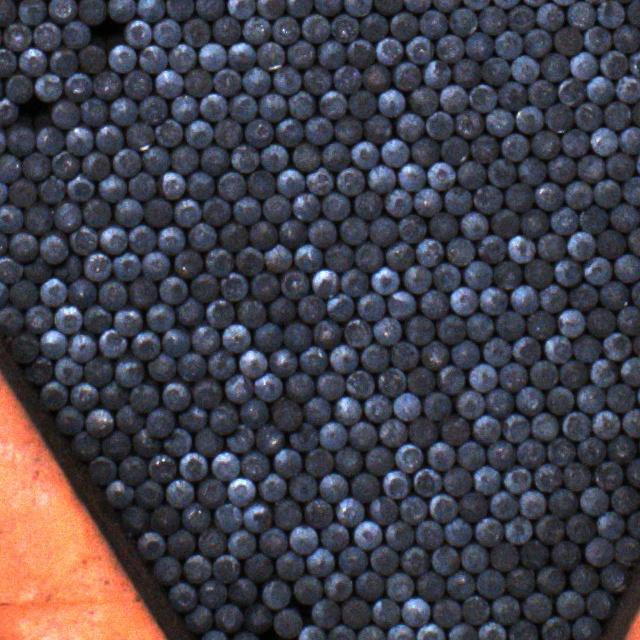tool: (100, 429, 130, 460), (70, 431, 100, 461), (584, 536, 614, 566), (300, 12, 330, 42), (598, 49, 628, 79), (197, 527, 226, 558), (458, 491, 487, 522), (209, 402, 237, 434), (523, 592, 552, 622), (310, 598, 340, 627), (459, 542, 488, 572), (486, 440, 515, 470), (350, 472, 379, 502), (288, 524, 317, 554), (63, 72, 92, 102), (404, 35, 434, 64), (453, 58, 482, 88), (430, 544, 458, 575), (551, 540, 579, 571), (149, 506, 180, 534), (562, 411, 590, 442), (401, 597, 430, 626), (352, 520, 381, 549), (35, 125, 64, 154), (107, 43, 136, 72), (109, 96, 138, 125), (125, 122, 154, 151), (226, 41, 255, 70), (285, 40, 314, 69), (493, 30, 522, 59), (539, 52, 568, 81), (9, 332, 37, 362), (491, 594, 519, 624), (371, 598, 399, 628), (273, 608, 301, 638), (214, 604, 242, 634), (445, 570, 475, 598), (506, 567, 534, 597), (275, 550, 303, 580), (336, 546, 366, 574), (119, 455, 147, 485), (210, 450, 238, 480), (562, 461, 590, 491), (20, 152, 50, 180), (94, 124, 122, 154), (375, 36, 403, 66), (507, 4, 535, 34), (464, 31, 492, 61), (553, 26, 583, 54), (24, 204, 52, 234), (524, 258, 552, 288), (510, 284, 538, 314), (244, 602, 271, 633), (54, 405, 82, 434), (168, 582, 196, 611), (586, 589, 614, 618), (556, 590, 584, 619), (432, 598, 460, 627), (355, 571, 384, 599), (536, 566, 565, 594), (570, 564, 598, 593), (244, 553, 272, 582), (306, 547, 334, 576), (369, 545, 397, 574), (489, 542, 517, 571), (178, 451, 206, 480), (240, 451, 268, 480), (366, 446, 394, 475), (456, 440, 484, 469), (534, 462, 562, 491), (369, 495, 397, 524), (385, 521, 414, 549), (566, 513, 594, 542), (591, 410, 620, 438), (2, 22, 30, 51), (48, 48, 77, 76), (52, 150, 80, 179), (152, 18, 180, 47), (64, 125, 92, 154), (448, 6, 476, 35), (523, 28, 551, 57), (510, 53, 538, 82), (568, 50, 596, 79), (114, 357, 142, 386), (250, 272, 278, 301), (505, 183, 533, 212), (564, 180, 592, 209), (609, 204, 638, 232), (432, 262, 460, 291), (253, 322, 281, 351), (283, 323, 312, 351), (313, 320, 341, 349), (288, 422, 316, 451), (85, 408, 112, 438), (153, 555, 180, 585), (342, 598, 369, 628), (262, 579, 289, 609), (520, 539, 547, 569), (613, 536, 640, 566), (182, 502, 209, 532), (167, 529, 194, 559), (304, 498, 331, 528), (78, 44, 105, 74), (79, 96, 106, 126), (256, 40, 283, 70), (220, 271, 247, 301), (274, 400, 300, 431), (24, 356, 52, 384), (323, 572, 351, 600), (198, 580, 226, 608), (416, 572, 444, 600), (273, 448, 301, 476), (516, 438, 544, 466), (546, 437, 574, 465), (134, 480, 162, 508), (226, 478, 254, 506), (549, 488, 577, 516), (611, 486, 639, 514), (258, 527, 286, 555), (320, 522, 348, 550), (535, 515, 563, 543), (9, 280, 37, 308), (24, 304, 52, 332), (69, 381, 97, 409), (138, 44, 166, 72), (198, 42, 226, 70), (184, 68, 212, 96), (272, 66, 300, 94), (302, 66, 330, 94), (332, 65, 360, 93), (392, 62, 420, 90), (422, 60, 450, 88), (482, 56, 510, 84), (228, 93, 256, 121), (112, 148, 140, 176), (468, 83, 496, 111), (396, 112, 424, 140), (350, 140, 378, 168), (560, 128, 588, 156), (8, 178, 36, 206), (276, 168, 304, 196), (320, 192, 348, 220), (456, 160, 484, 188), (473, 185, 501, 213), (534, 182, 562, 210), (550, 206, 578, 234), (566, 231, 594, 259), (483, 336, 511, 364), (468, 362, 496, 390), (346, 369, 374, 397), (456, 390, 484, 418), (392, 392, 420, 420), (183, 554, 210, 583), (228, 578, 255, 607), (401, 546, 428, 575), (148, 453, 175, 482), (305, 447, 332, 476), (607, 434, 634, 463), (198, 479, 225, 508), (289, 472, 316, 501), (214, 502, 241, 531), (429, 493, 456, 522), (227, 528, 254, 557), (18, 47, 45, 76), (5, 74, 32, 103), (92, 70, 119, 99), (138, 94, 165, 123), (331, 13, 358, 42), (242, 66, 269, 95), (478, 5, 505, 34), (613, 23, 640, 52), (243, 119, 272, 146), (586, 75, 613, 104), (380, 138, 407, 167), (411, 137, 438, 166), (218, 171, 245, 200), (173, 198, 200, 227), (191, 325, 218, 354), (478, 234, 505, 263), (373, 316, 400, 345), (406, 316, 433, 345), (572, 335, 601, 362), (477, 568, 503, 598), (89, 456, 116, 484), (427, 441, 454, 469), (577, 437, 605, 464), (594, 461, 621, 489), (166, 479, 193, 507), (443, 467, 470, 495), (274, 500, 301, 528), (490, 490, 517, 518), (580, 486, 607, 514), (416, 520, 443, 548), (474, 517, 501, 545), (34, 73, 61, 101), (123, 70, 150, 98), (154, 70, 182, 97), (419, 10, 446, 38), (317, 41, 345, 68), (347, 38, 374, 66), (436, 34, 464, 61), (362, 64, 389, 92), (536, 2, 563, 30), (584, 25, 611, 53), (153, 119, 181, 146), (184, 120, 211, 148), (81, 153, 109, 180), (230, 144, 258, 171), (498, 81, 525, 109), (557, 78, 584, 106), (364, 114, 391, 142), (439, 136, 466, 164), (515, 105, 542, 133), (500, 133, 527, 161), (65, 173, 93, 200), (98, 174, 125, 202), (98, 280, 125, 308), (146, 302, 173, 330), (130, 384, 157, 412), (115, 405, 142, 433), (163, 428, 190, 456), (188, 222, 215, 250), (233, 196, 260, 224), (206, 299, 233, 327), (237, 299, 264, 327), (222, 324, 249, 352), (336, 166, 363, 194), (427, 162, 454, 190), (414, 188, 441, 216), (520, 209, 548, 236), (446, 237, 473, 265), (387, 243, 414, 271), (354, 242, 381, 270), (324, 243, 352, 270), (280, 270, 307, 298), (340, 268, 367, 296), (404, 265, 431, 293), (464, 260, 491, 288), (568, 283, 596, 310), (599, 281, 627, 308), (420, 290, 448, 317), (496, 311, 524, 338), (602, 332, 630, 359), (513, 336, 540, 364), (238, 350, 266, 377), (226, 424, 254, 451), (484, 389, 512, 416), (472, 415, 500, 442), (408, 418, 435, 446), (462, 595, 488, 624), (243, 502, 269, 531), (400, 495, 426, 524), (182, 17, 208, 46), (198, 94, 227, 120), (272, 15, 298, 44), (568, 1, 594, 30), (528, 79, 554, 108), (456, 109, 482, 138), (54, 202, 80, 231), (10, 233, 36, 262), (40, 235, 66, 264), (100, 379, 126, 408), (163, 382, 189, 411), (134, 427, 160, 456), (236, 246, 262, 275), (398, 214, 424, 243), (312, 269, 338, 298), (438, 315, 464, 344), (380, 418, 406, 447), (106, 479, 133, 506), (137, 531, 164, 558), (61, 21, 88, 48), (171, 96, 198, 123), (359, 13, 386, 40), (170, 146, 197, 173), (410, 87, 437, 114), (531, 131, 558, 158), (115, 198, 142, 225), (127, 225, 154, 252), (83, 305, 110, 332), (98, 329, 125, 356), (144, 200, 171, 227), (202, 197, 229, 224), (162, 328, 189, 355), (292, 193, 319, 220), (576, 155, 603, 182), (597, 230, 624, 257), (369, 218, 396, 245), (326, 293, 353, 320), (587, 309, 614, 336), (329, 344, 356, 371), (255, 374, 282, 401), (256, 425, 283, 452), (560, 361, 587, 388), (40, 381, 66, 409), (293, 576, 321, 602), (386, 572, 412, 600), (600, 563, 626, 591), (320, 473, 346, 501), (473, 465, 499, 493), (336, 497, 362, 525), (504, 516, 530, 544), (39, 330, 65, 358), (32, 21, 58, 49), (7, 126, 33, 154), (124, 20, 150, 48), (260, 93, 286, 121), (214, 120, 240, 148), (305, 116, 331, 144), (142, 146, 168, 174), (260, 144, 288, 170), (426, 110, 452, 138), (486, 108, 512, 136), (545, 104, 571, 132), (70, 226, 96, 254), (83, 253, 109, 281), (146, 409, 172, 437), (220, 223, 246, 251), (206, 248, 232, 276), (191, 272, 217, 300), (354, 190, 380, 218), (385, 188, 411, 216), (488, 158, 514, 186), (445, 186, 471, 214), (593, 180, 619, 208), (578, 206, 606, 232), (249, 221, 275, 249), (308, 219, 334, 247), (428, 213, 456, 239), (264, 244, 290, 272), (372, 266, 398, 294), (357, 292, 383, 320), (345, 318, 371, 346), (558, 309, 584, 337), (544, 334, 570, 362), (226, 374, 252, 402), (286, 374, 312, 402), (240, 400, 266, 428), (318, 421, 344, 449), (392, 341, 418, 369), (422, 341, 448, 369), (378, 368, 404, 396), (607, 383, 633, 411), (516, 386, 542, 414), (441, 418, 469, 444), (364, 394, 390, 422), (69, 277, 94, 306), (571, 616, 601, 640), (185, 605, 211, 632), (414, 468, 440, 495), (596, 511, 622, 538), (52, 101, 78, 128), (168, 44, 194, 71), (213, 16, 239, 43), (213, 68, 239, 95), (378, 89, 404, 116), (275, 118, 302, 144), (293, 144, 319, 171), (84, 200, 110, 227), (100, 227, 126, 254), (157, 226, 183, 253), (54, 306, 81, 332), (158, 276, 185, 302), (114, 308, 140, 335), (248, 170, 274, 197), (175, 250, 202, 276), (306, 167, 332, 194), (368, 165, 394, 192), (398, 163, 424, 190), (263, 194, 289, 221), (508, 235, 534, 262), (614, 255, 640, 282), (460, 212, 487, 238), (416, 239, 442, 266), (294, 243, 320, 270), (493, 261, 519, 288), (478, 287, 505, 313), (450, 286, 476, 313), (387, 290, 414, 316), (298, 295, 324, 322), (466, 313, 492, 340), (178, 352, 204, 379), (270, 349, 296, 376), (361, 345, 388, 371), (452, 341, 478, 368), (577, 385, 603, 412), (502, 414, 528, 441), (122, 506, 147, 534), (213, 554, 238, 582), (335, 446, 360, 474), (396, 444, 421, 472), (502, 467, 530, 492), (258, 474, 286, 499), (520, 490, 545, 518), (445, 517, 470, 545), (598, 0, 623, 28), (287, 90, 312, 118), (320, 90, 345, 118), (441, 84, 466, 112), (470, 134, 495, 162), (603, 102, 628, 130), (129, 172, 154, 200), (69, 333, 94, 361), (84, 357, 109, 385), (300, 346, 325, 374), (305, 396, 330, 424), (335, 394, 360, 422), (500, 363, 525, 391), (590, 358, 615, 386), (382, 470, 406, 499), (16, 0, 45, 24), (40, 277, 64, 306), (390, 12, 416, 38), (201, 147, 227, 173), (322, 144, 348, 170), (614, 76, 640, 102), (574, 102, 600, 128), (590, 128, 616, 154), (142, 253, 168, 279), (132, 332, 158, 358), (518, 158, 544, 184), (548, 156, 574, 182), (538, 234, 564, 260), (584, 257, 610, 283), (339, 217, 365, 243), (268, 298, 294, 324), (208, 352, 234, 378), (194, 380, 220, 406), (317, 372, 343, 398), (437, 366, 463, 392), (530, 361, 556, 387), (422, 393, 448, 419), (55, 357, 80, 384), (242, 17, 269, 42), (113, 252, 138, 279), (606, 154, 633, 179), (280, 220, 305, 247), (547, 386, 572, 413), (542, 616, 570, 640), (540, 283, 564, 311), (616, 306, 640, 334), (532, 412, 556, 440), (0, 306, 23, 335), (46, 0, 76, 22), (349, 91, 374, 117), (130, 279, 156, 304), (149, 353, 174, 379), (179, 405, 205, 430), (188, 172, 213, 198), (492, 210, 518, 235), (554, 260, 580, 285), (528, 312, 553, 338), (408, 368, 433, 394), (178, 297, 202, 324), (23, 257, 48, 282), (334, 118, 360, 142), (39, 178, 65, 202), (55, 255, 79, 281), (196, 428, 220, 454), (350, 422, 374, 448), (160, 171, 183, 198), (136, 0, 164, 22), (618, 126, 640, 154), (194, 0, 223, 21), (78, 0, 104, 23), (0, 204, 21, 232), (0, 256, 22, 282), (108, 0, 135, 21), (508, 620, 536, 640), (0, 154, 20, 182), (166, 0, 193, 20), (621, 408, 640, 436), (226, 0, 254, 19), (621, 357, 640, 385), (415, 622, 444, 640), (255, 0, 284, 18), (448, 622, 476, 640), (478, 621, 504, 640), (623, 176, 640, 204), (327, 624, 354, 640), (344, 0, 371, 16), (0, 98, 16, 125), (388, 623, 413, 640), (357, 625, 385, 640), (314, 0, 342, 15), (0, 48, 15, 76), (626, 458, 640, 487), (298, 624, 323, 640), (286, 0, 310, 16), (373, 0, 402, 13), (0, 0, 14, 26), (627, 511, 640, 538), (627, 0, 640, 26), (628, 228, 640, 256), (432, 0, 459, 11), (402, 0, 430, 10)
void: (15, 98, 51, 128), (89, 20, 122, 49)
